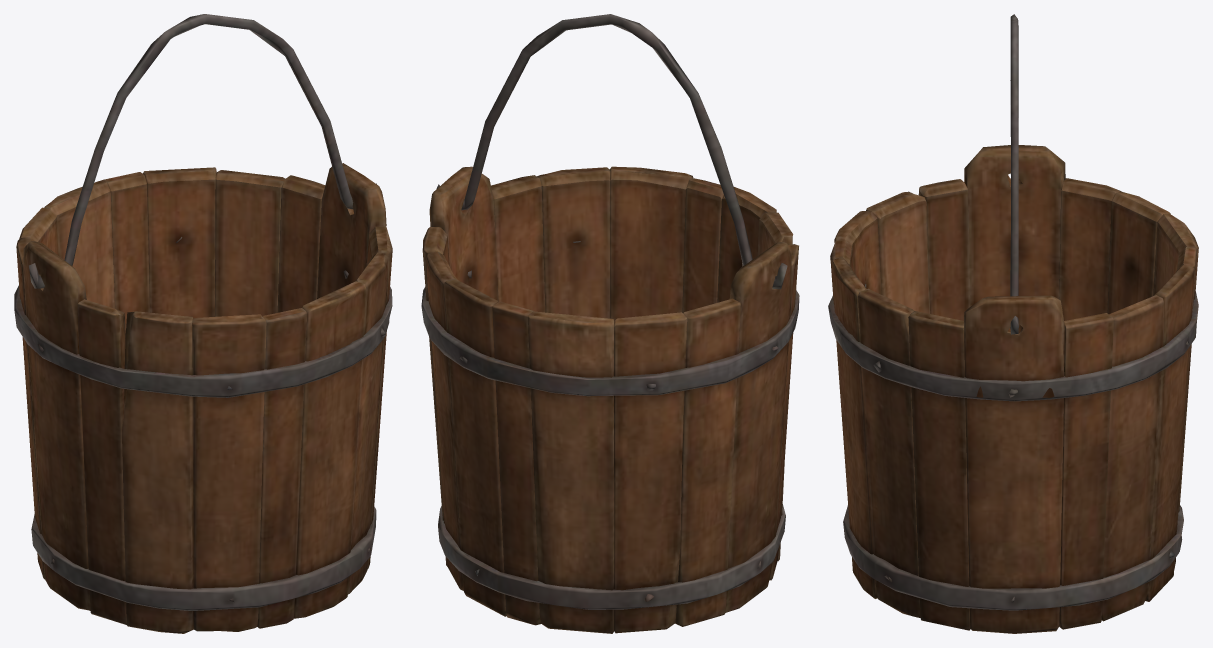
The model's file is mop_bucket.glb.
The picture shows the model from 3 angles, left to right: view 1: azimuth 30°, elevation 25°; view 2: azimuth 150°, elevation 25°; view 3: azimuth 270°, elevation 25°; orthographic projection.
Bounding box in the file's own units: 0.3663 × 0.5493 × 0.3418.
1 material, 1 textured.
